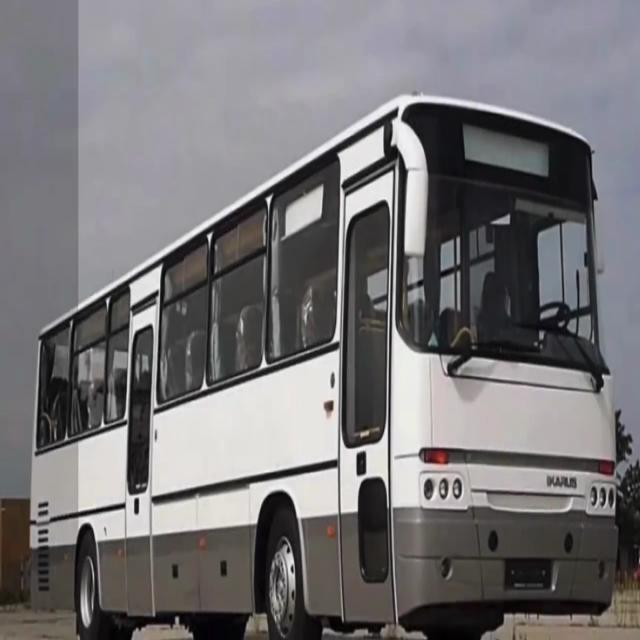bus: (28, 90, 622, 640)
